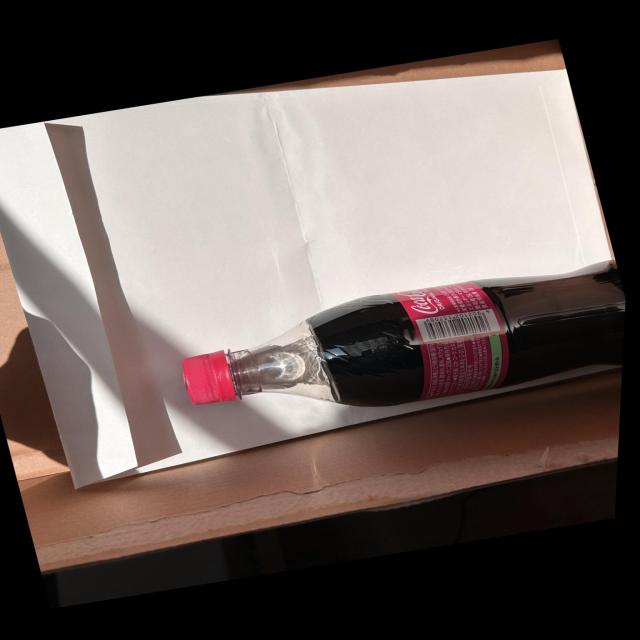high: (183, 261, 625, 407)
